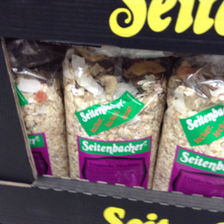cereal: (62, 50, 166, 187), (155, 67, 224, 198)
